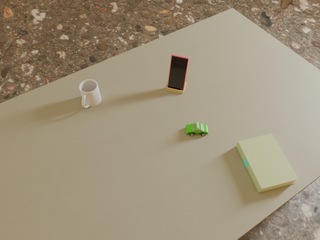book: (236, 134, 298, 193)
cup: (79, 80, 101, 108)
phone: (168, 55, 189, 91)
toy_car: (186, 122, 208, 136)
